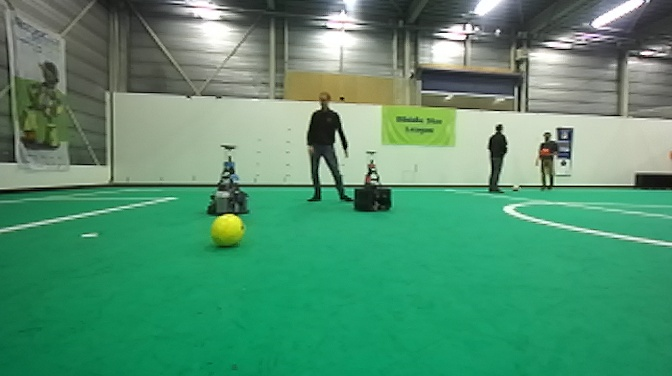ball: (211, 213, 245, 247), (510, 182, 521, 192), (542, 146, 552, 157)
human: (306, 91, 351, 204), (482, 123, 507, 193), (532, 131, 559, 192)
robot: (205, 143, 252, 217), (353, 150, 393, 213)
